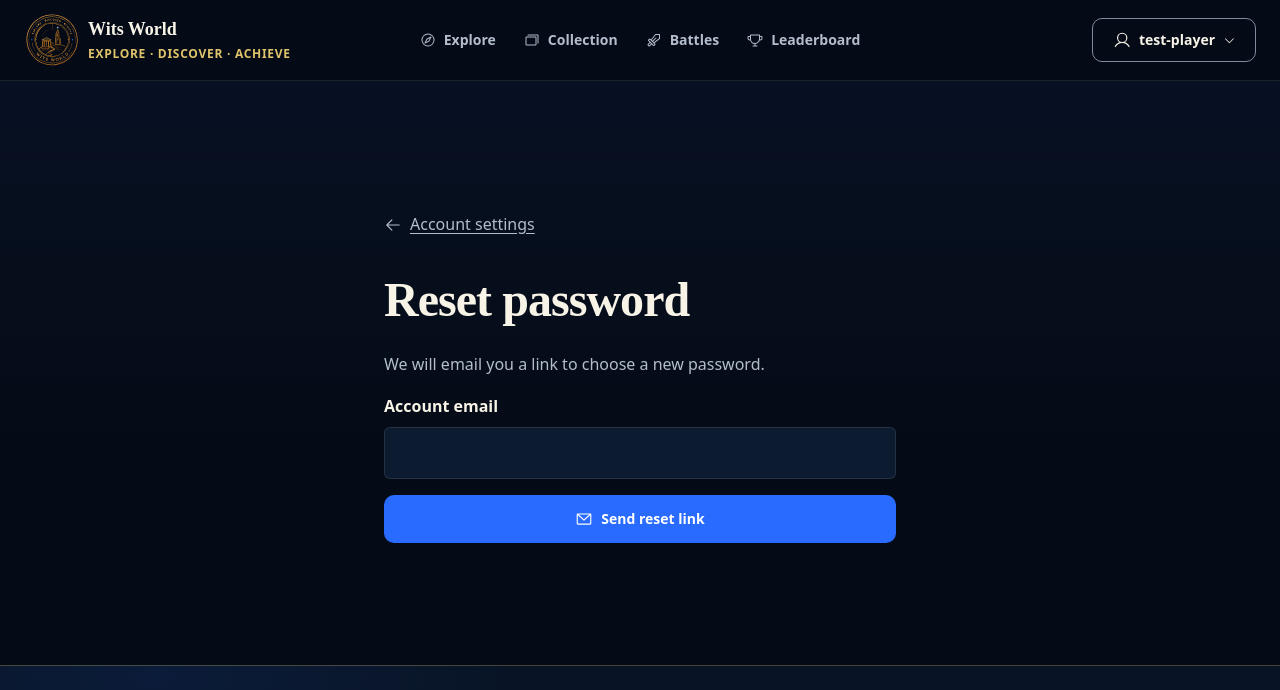
player account page › keeps the reset request retryable after a provider error
Type "player@example.test" into the field labelled "Account email" at (640, 453), box [384,427,896,479]
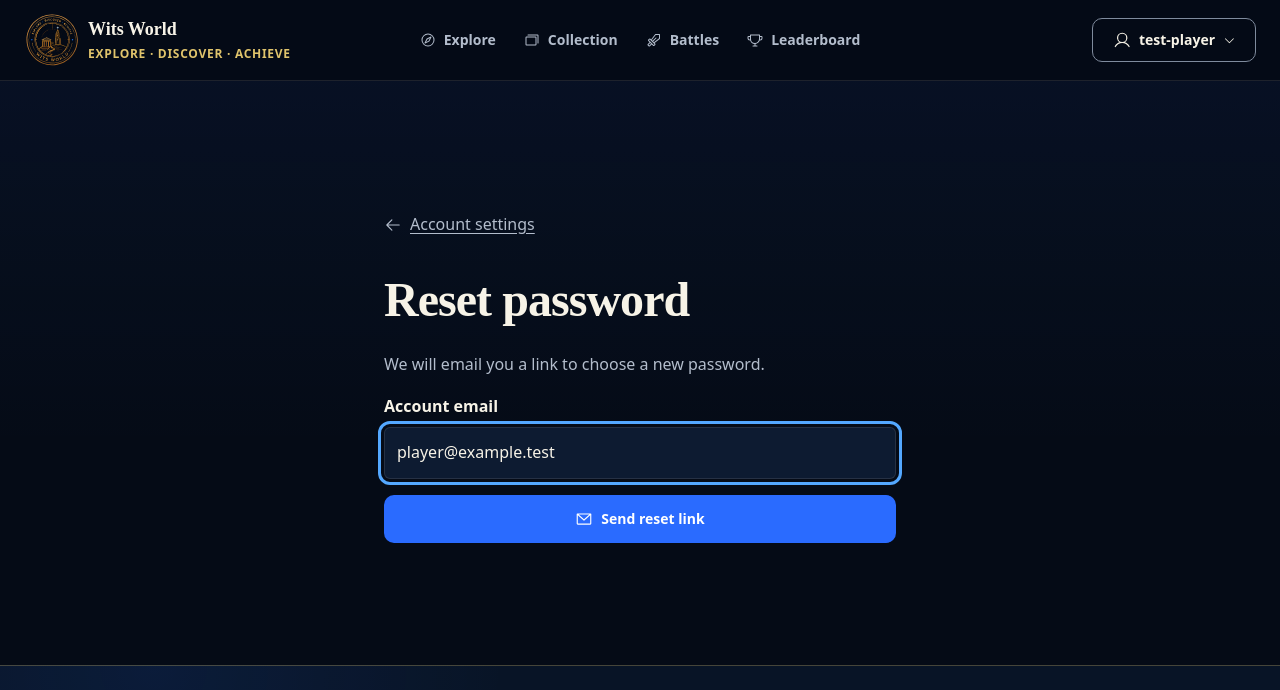
Click the button "Send reset link" at (640, 519), box [384,495,896,543]
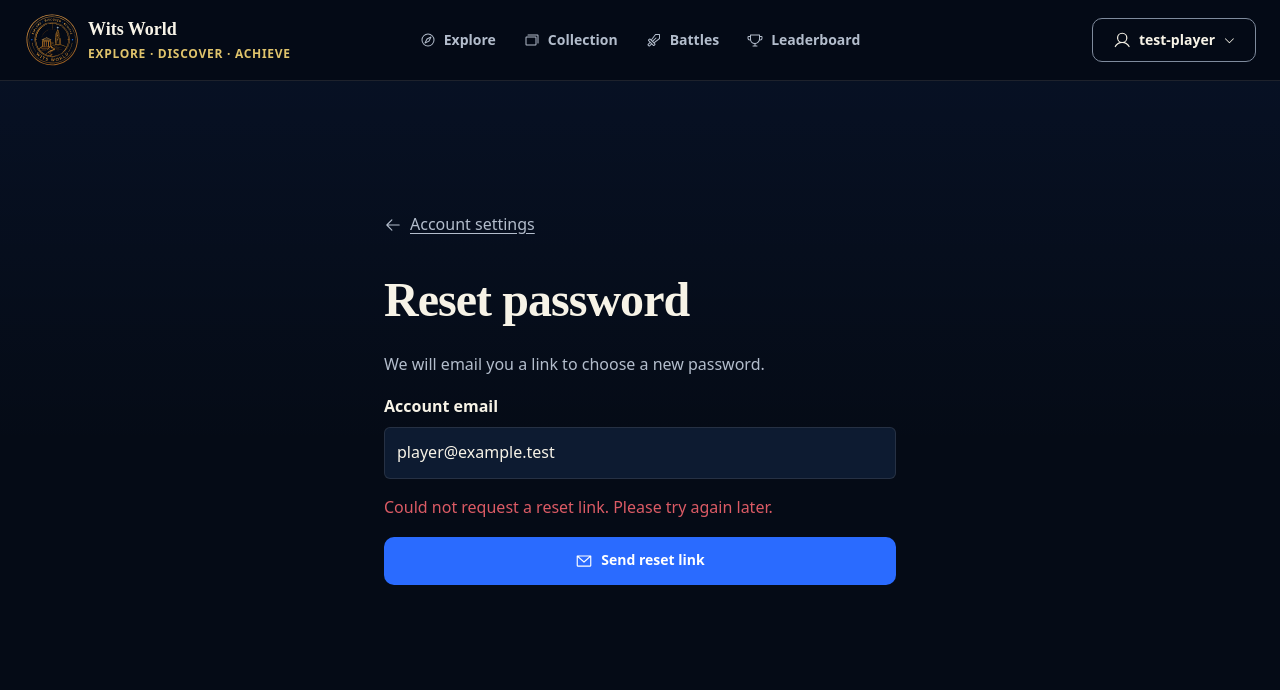
Result: the message shows "Could not request a reset link" at [384,496,773,518]
Click the button "Send reset link" at (640, 561), box [384,537,896,585]
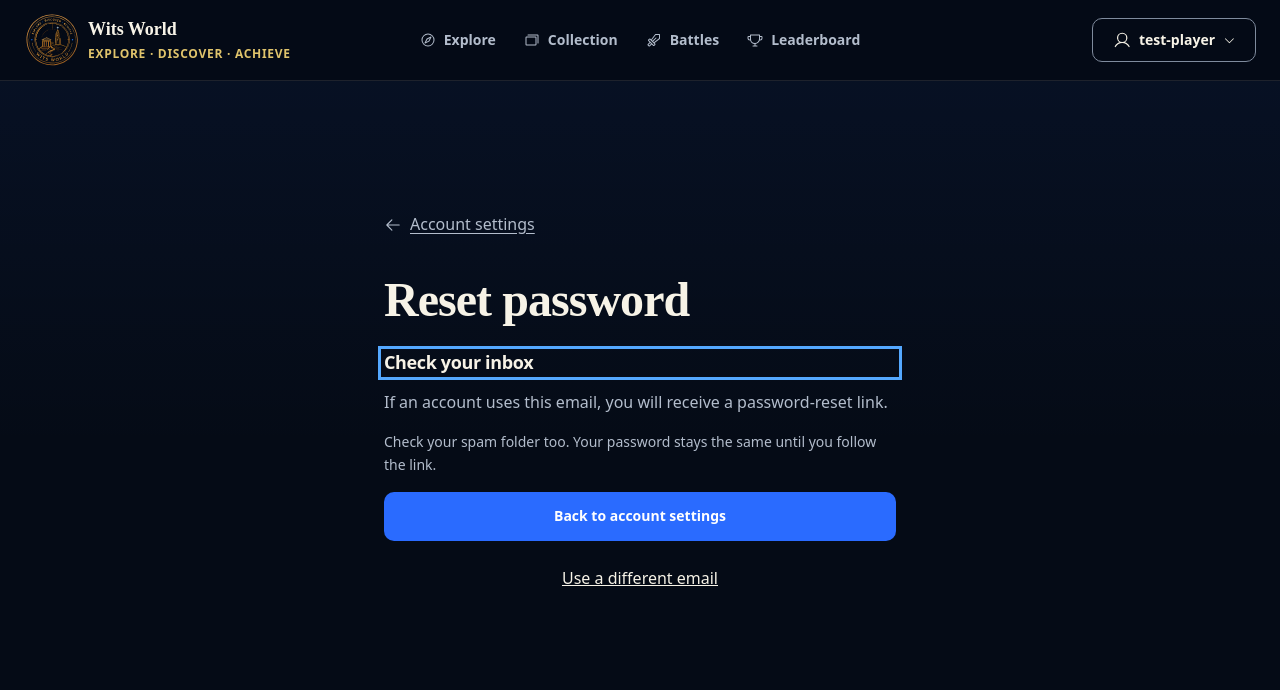
Result: the heading "Check your inbox" is shown at [384,350,533,374]
